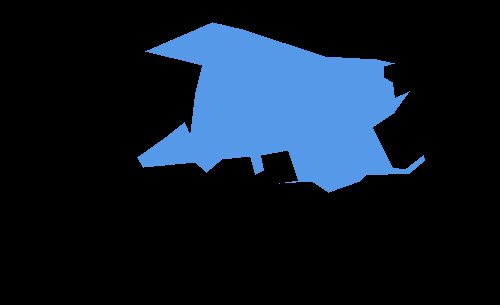Airplane: (137, 22, 425, 192)
